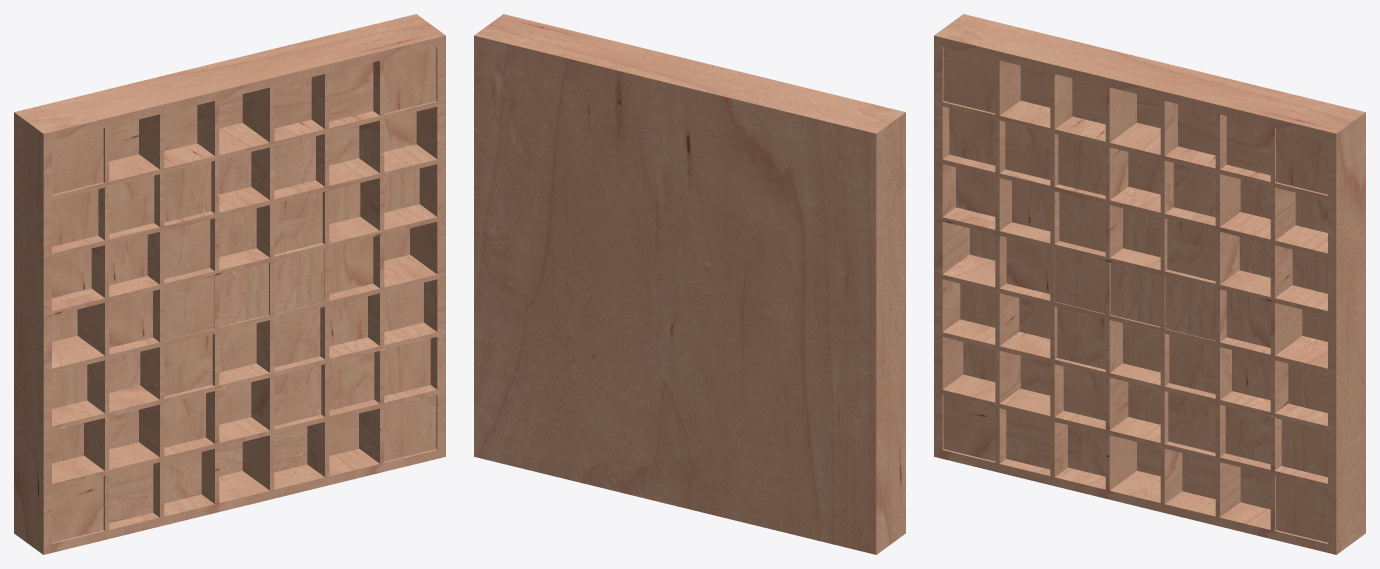
Rendered from RealDiff HDS.glb.
3 renders of one model, left to right at view 1: azimuth 30°, elevation 25°; view 2: azimuth 150°, elevation 25°; view 3: azimuth 330°, elevation 25°, orthographic.
Parts seen in each view (by area): view 1: RealDiff HDS; view 2: RealDiff HDS; view 3: RealDiff HDS.
Part boxes in pixels (<box>): RealDiff HDS: <box>14,14,445,554</box>; RealDiff HDS: <box>474,14,905,554</box>; RealDiff HDS: <box>934,14,1365,554</box>.
Size of the model in its own units: 23.62 by 23.62 by 3.
1 material, 1 textured.
